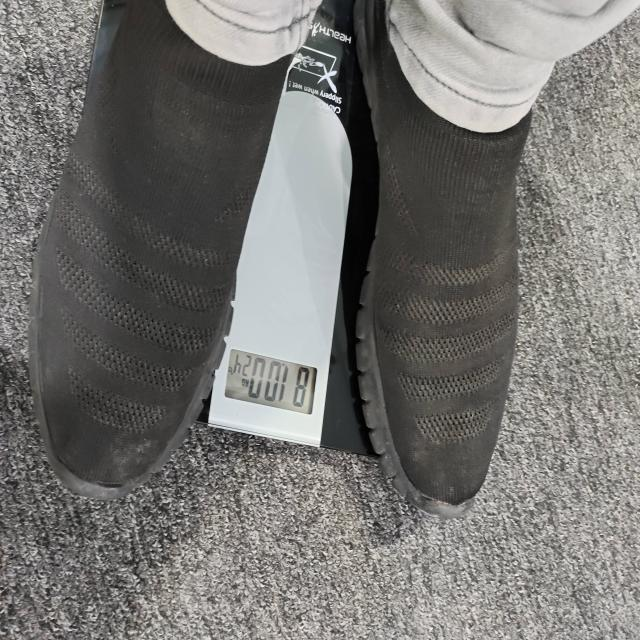ws: (256, 103, 357, 447)
